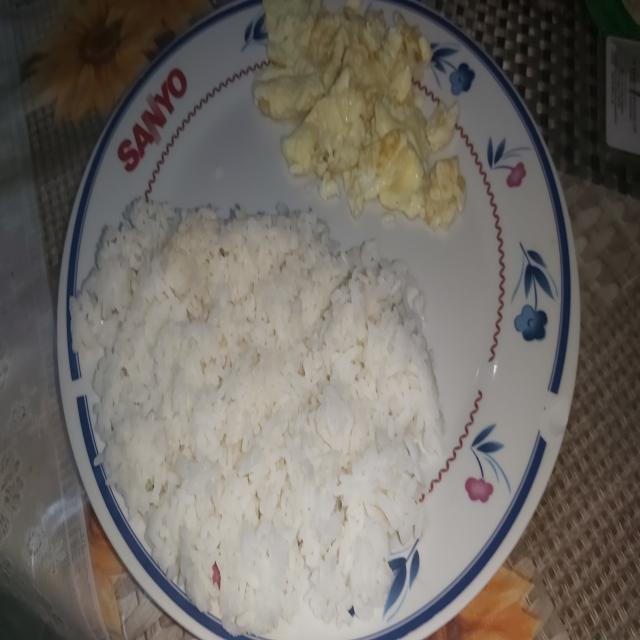Chicken -Chicken Inasal-: (87, 197, 422, 602)
